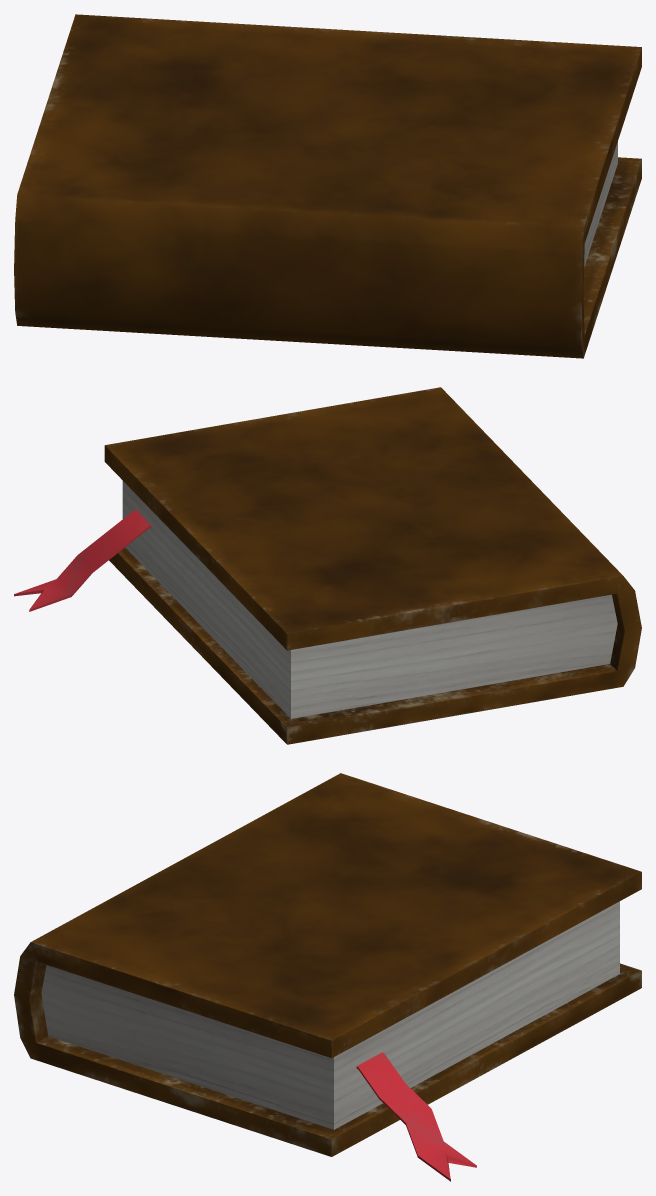
File: Book2.fbx
3 renders of one model, top to bottom at view 1: azimuth 30°, elevation 25°; view 2: azimuth 150°, elevation 25°; view 3: azimuth 270°, elevation 25°, orthographic. The views are drawn at different scales.
Parts seen in each view (by area): view 1: polySurface43.001, polySurface44.001; view 2: polySurface43.001, polySurface44.001, pCube26; view 3: polySurface43.001, polySurface44.001, pCube26.
Part boxes in pixels (bbox=[...]): polySurface43.001: bbox=[14, 14, 641, 358]; polySurface44.001: bbox=[584, 142, 617, 267]; polySurface43.001: bbox=[104, 387, 641, 744]; polySurface44.001: bbox=[122, 481, 617, 718]; pCube26: bbox=[14, 510, 151, 611]; polySurface43.001: bbox=[14, 773, 641, 1156]; polySurface44.001: bbox=[41, 901, 619, 1129]; pCube26: bbox=[356, 1052, 476, 1181].
Bounding box in the file's own units: 40.11 × 7.96 × 36.63.
Materials: 1 (1 with a texture image).
